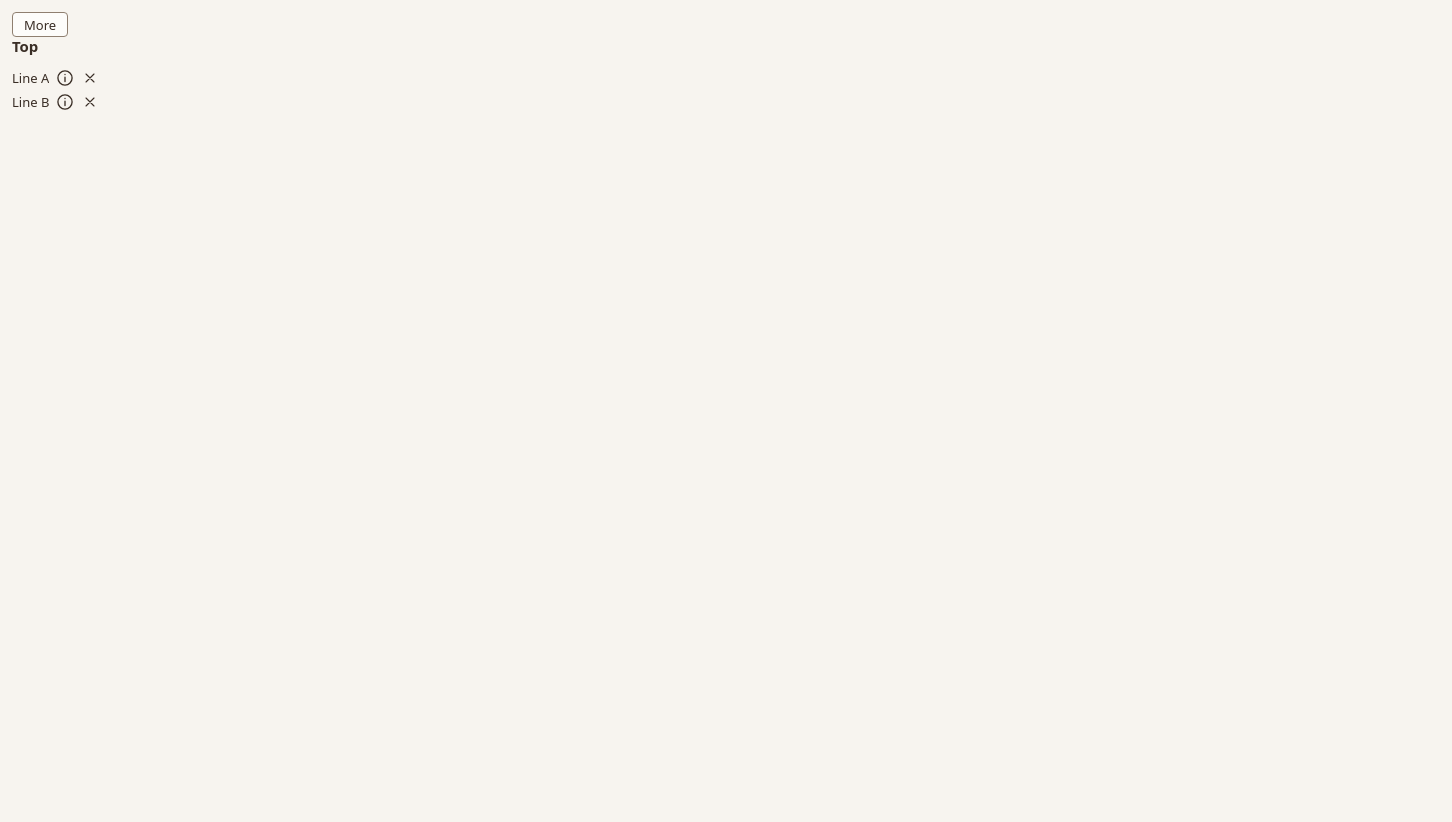
Test: Escape closes the panel when focus is in it or nowhere, and not when focus is in another control
Click the button named "Details" next to "Line A": (64, 78) [52,66,76,90]
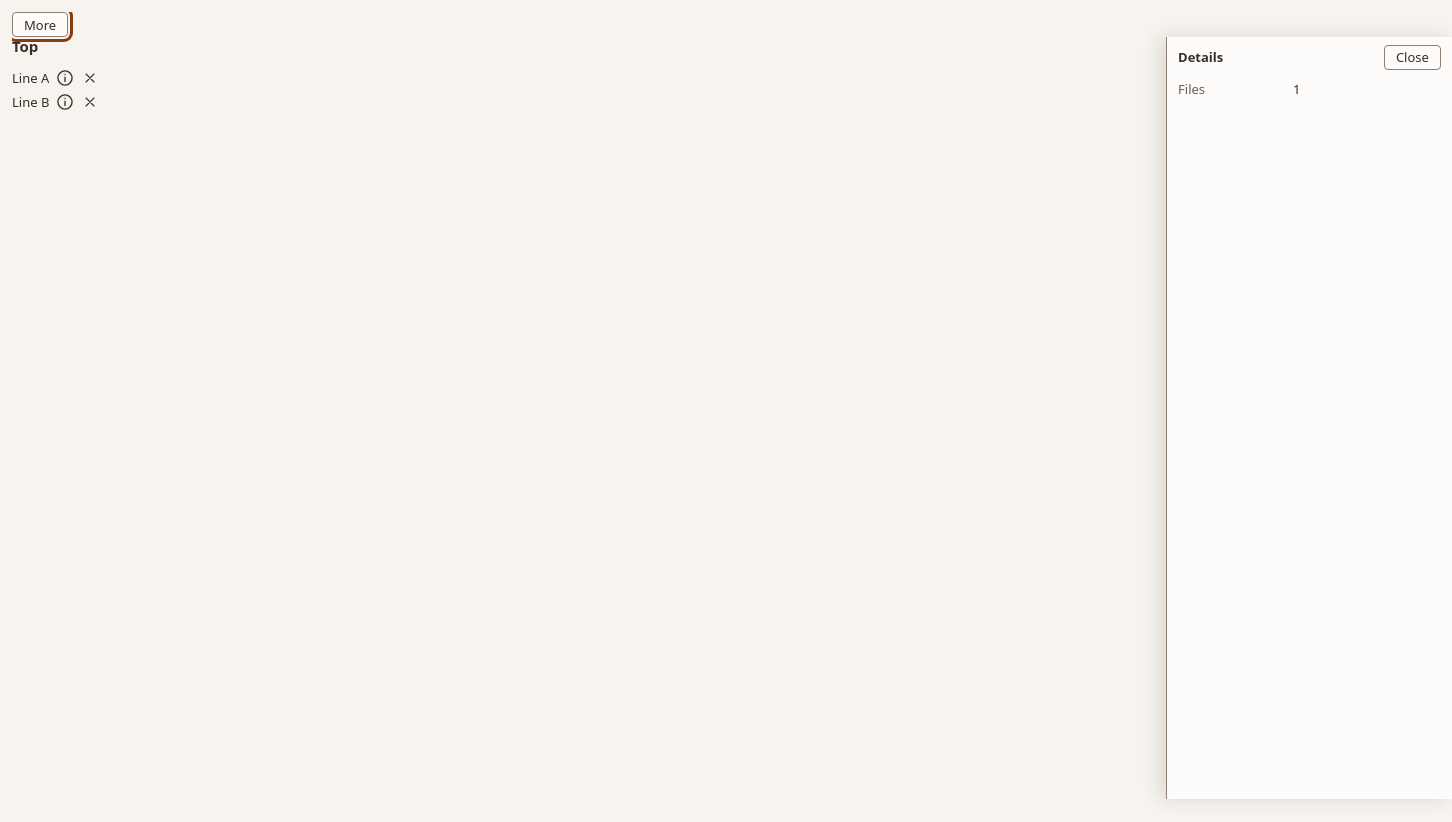
Press Escape
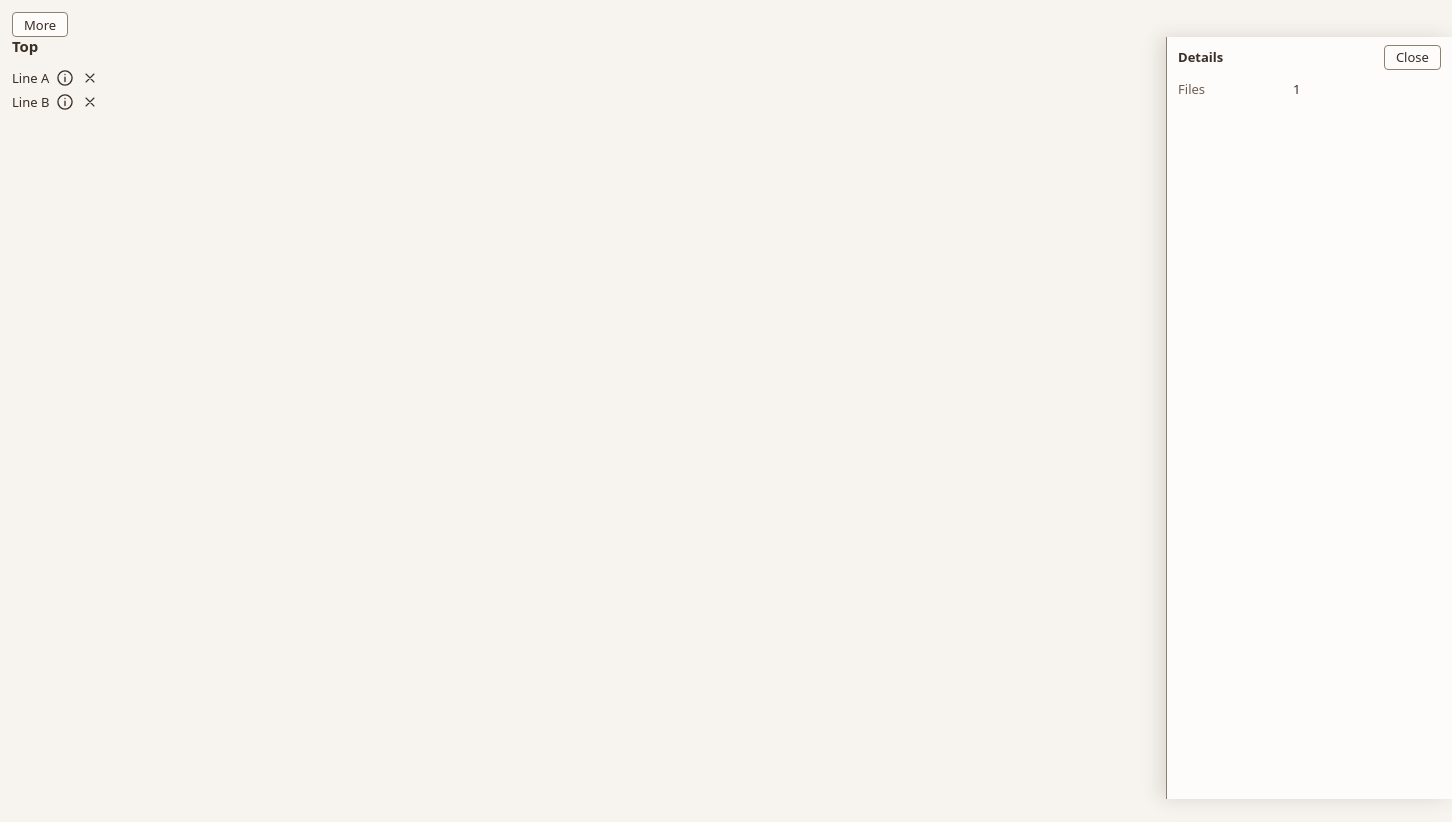
Expected: the element with test id "a-details" is shown, [1166,37,1451,799]
Press Escape
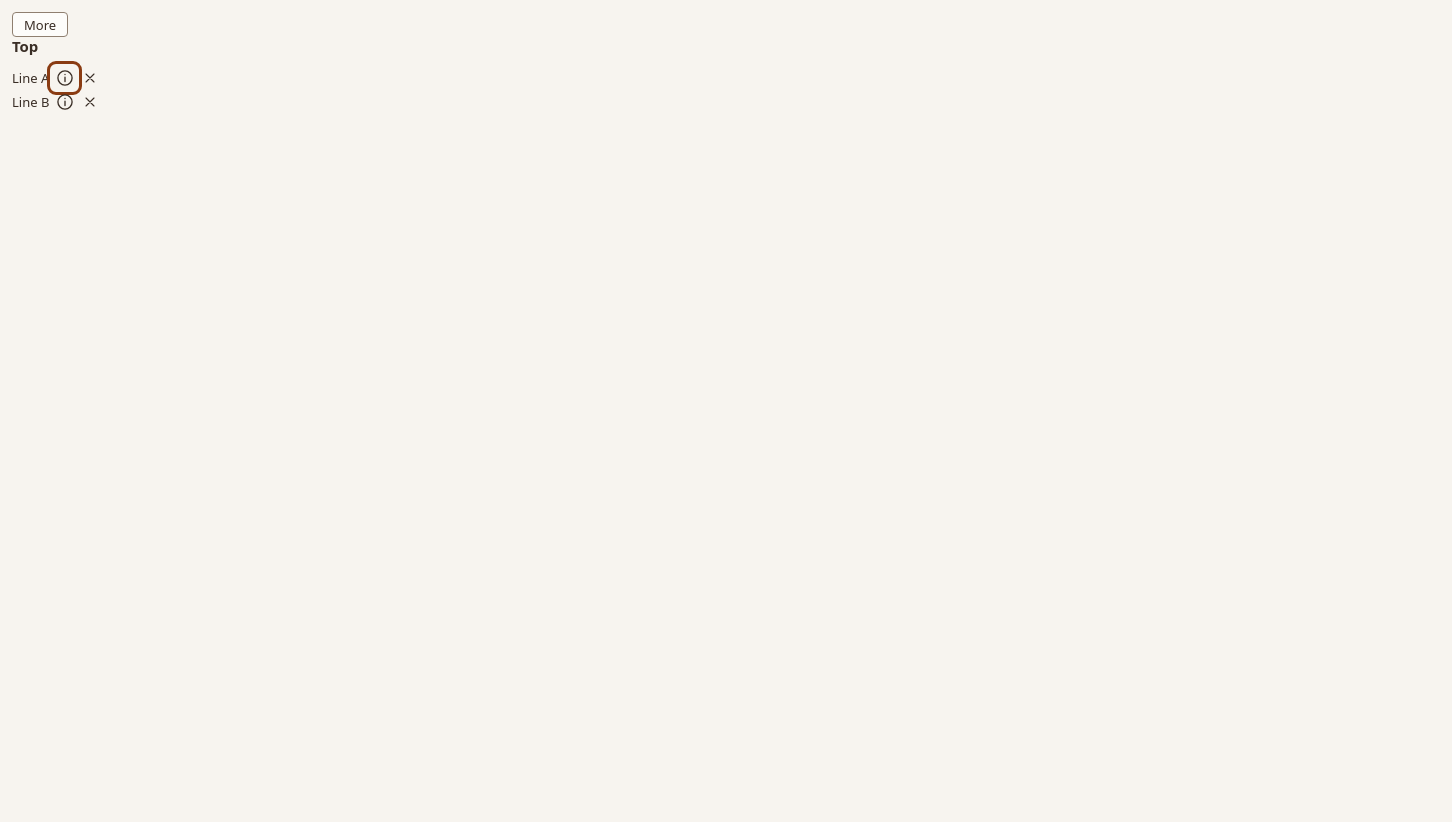
Expected: the element with test id "a-details" is gone
Note: Focus inside the panel.
Click the button named "Details" next to "Line A": (64, 78) [52,66,76,90]
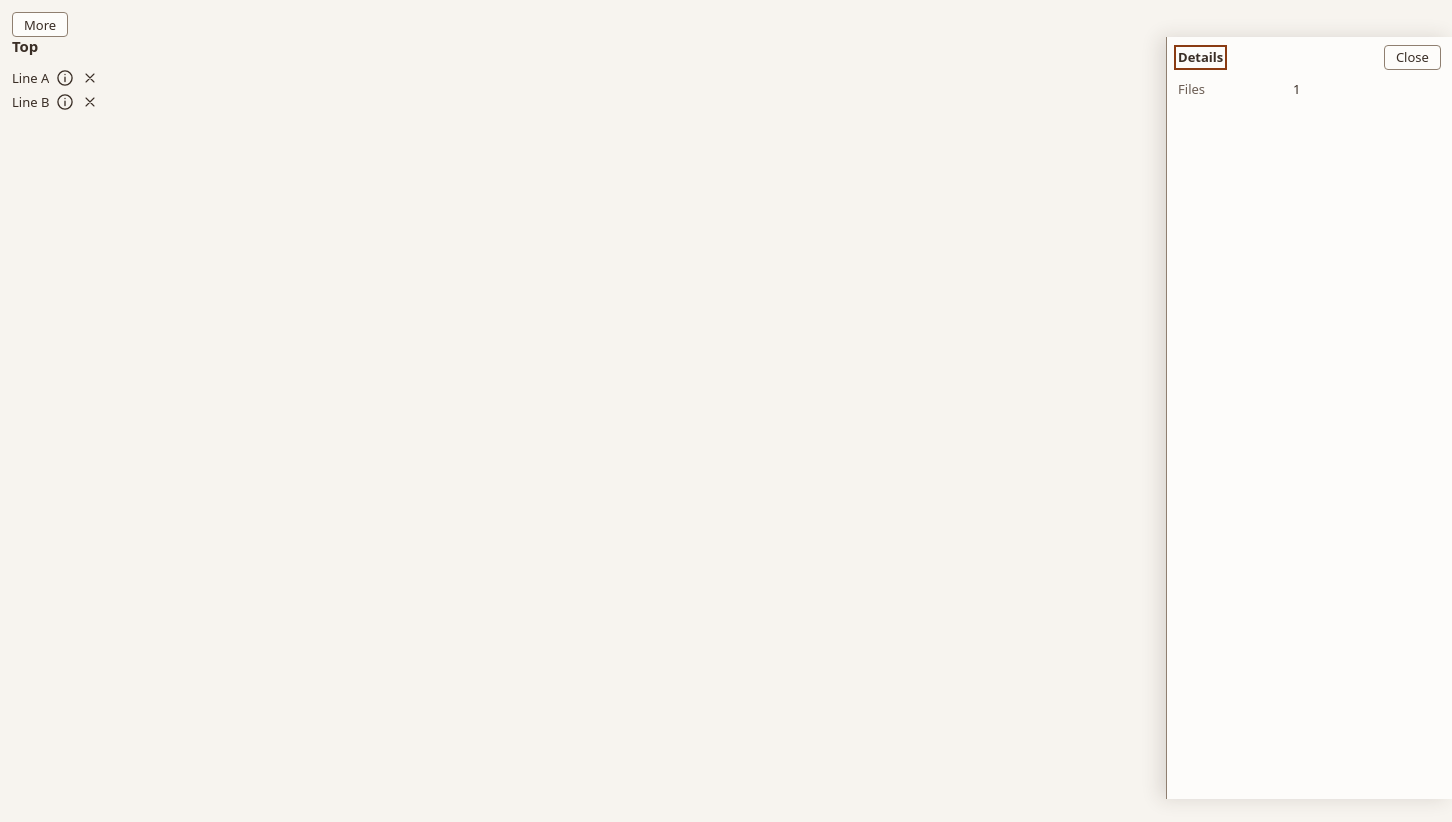
Press Escape
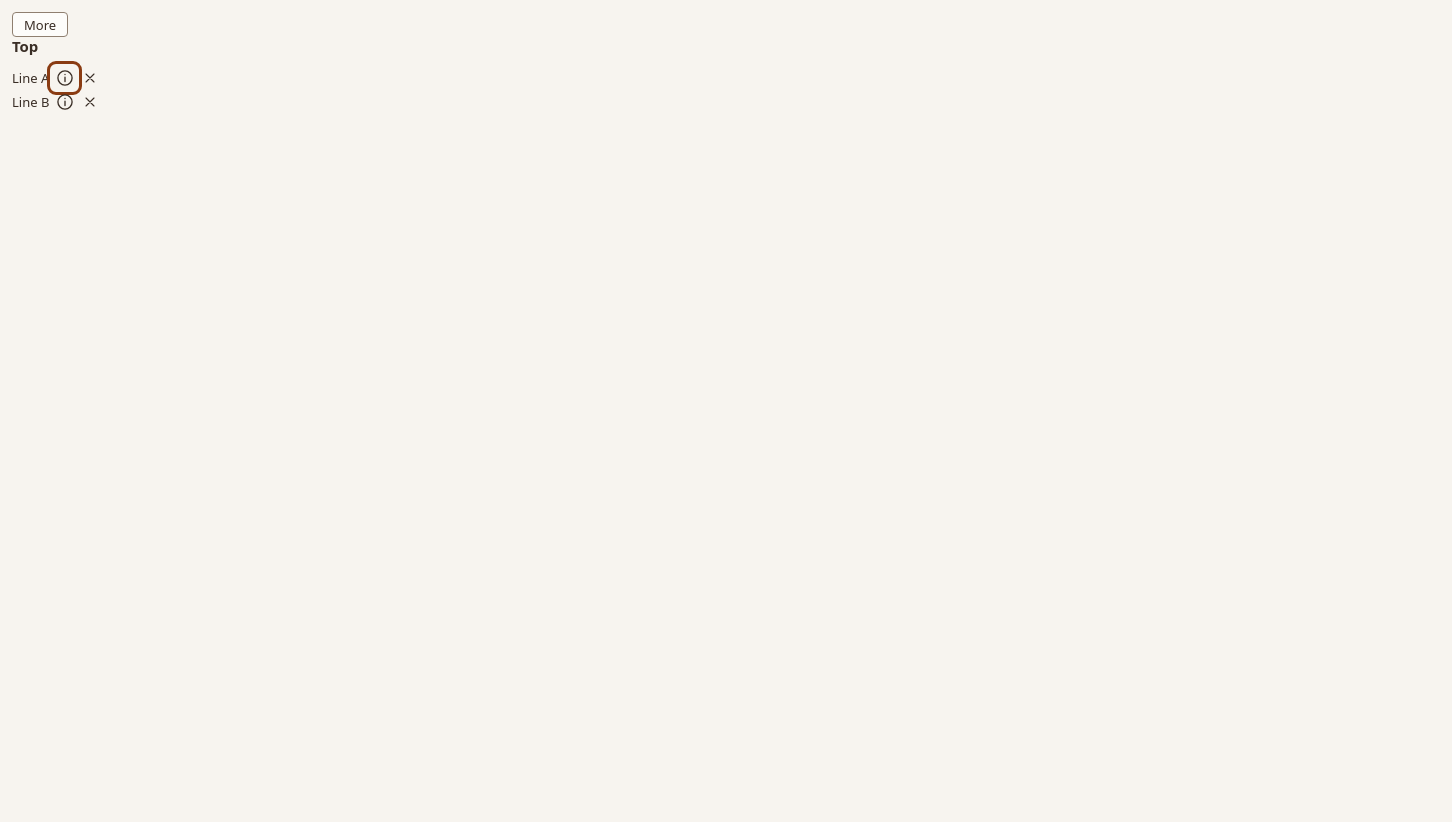
Expected: the element with test id "a-details" is gone
